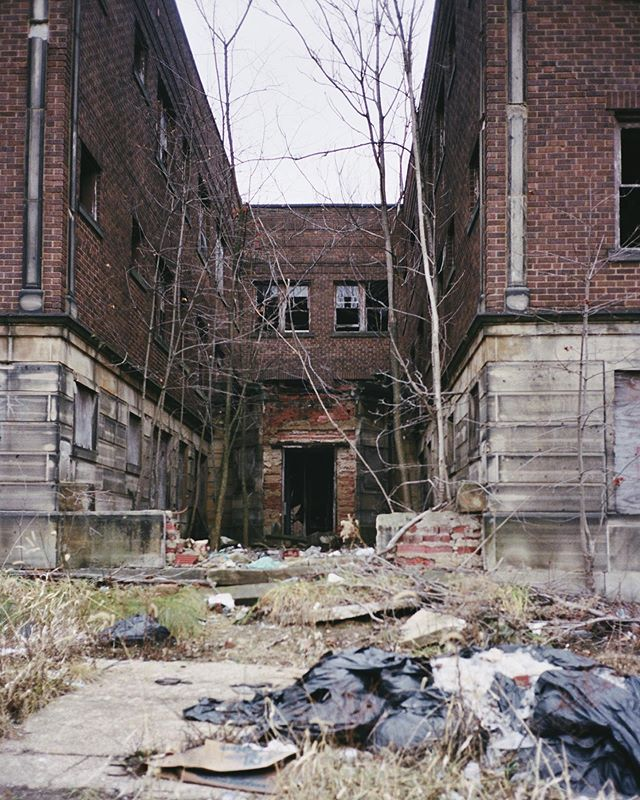building: (4, 1, 634, 568)
sky: (249, 1, 414, 199)
trash: (10, 577, 640, 800)
tree: (348, 15, 456, 568), (156, 92, 255, 549)
window: (239, 275, 328, 333), (330, 275, 395, 342)
